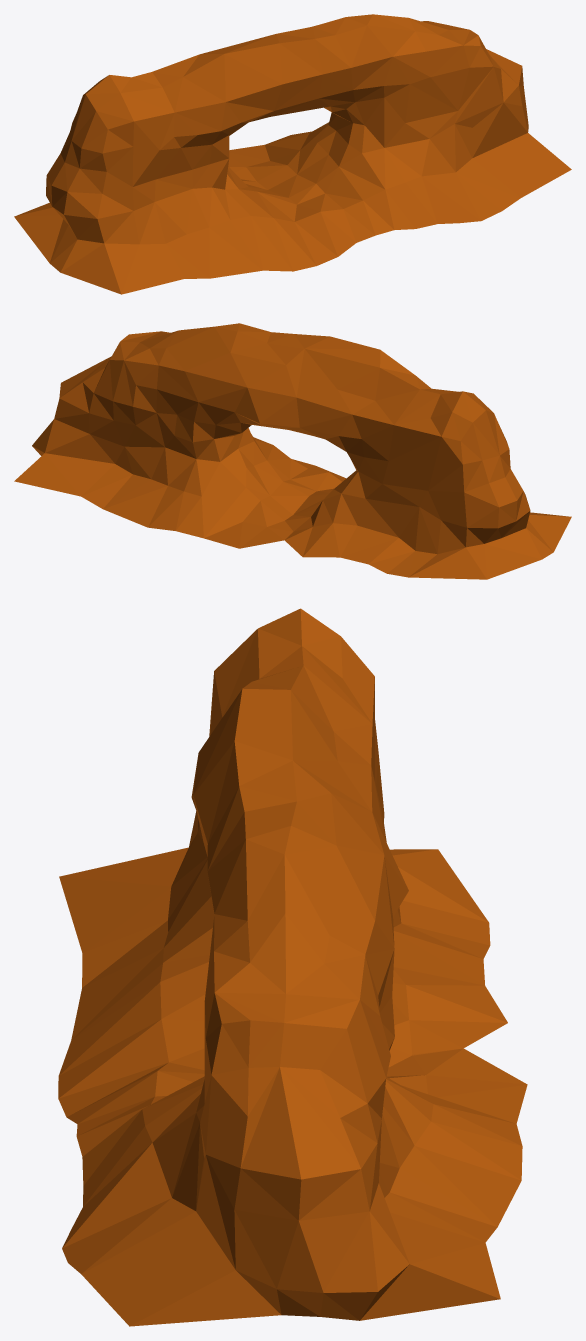
Rendered from Arch.fbx.
3 views of the same model, one above another, from view 1: azimuth 30°, elevation 25°; view 2: azimuth 150°, elevation 25°; view 3: azimuth 270°, elevation 25° (orthographic). The views are drawn at different scales.
Visible parts, largest first — view 1: Arch; view 2: Arch; view 3: Arch.
Boxes of the visible parts, box(x1,y1,x2,y2) form: Arch: box(14, 14, 571, 294); Arch: box(14, 323, 571, 579); Arch: box(58, 608, 527, 1326).
Bounding box in the file's own units: 4379 × 1596 × 1850.
